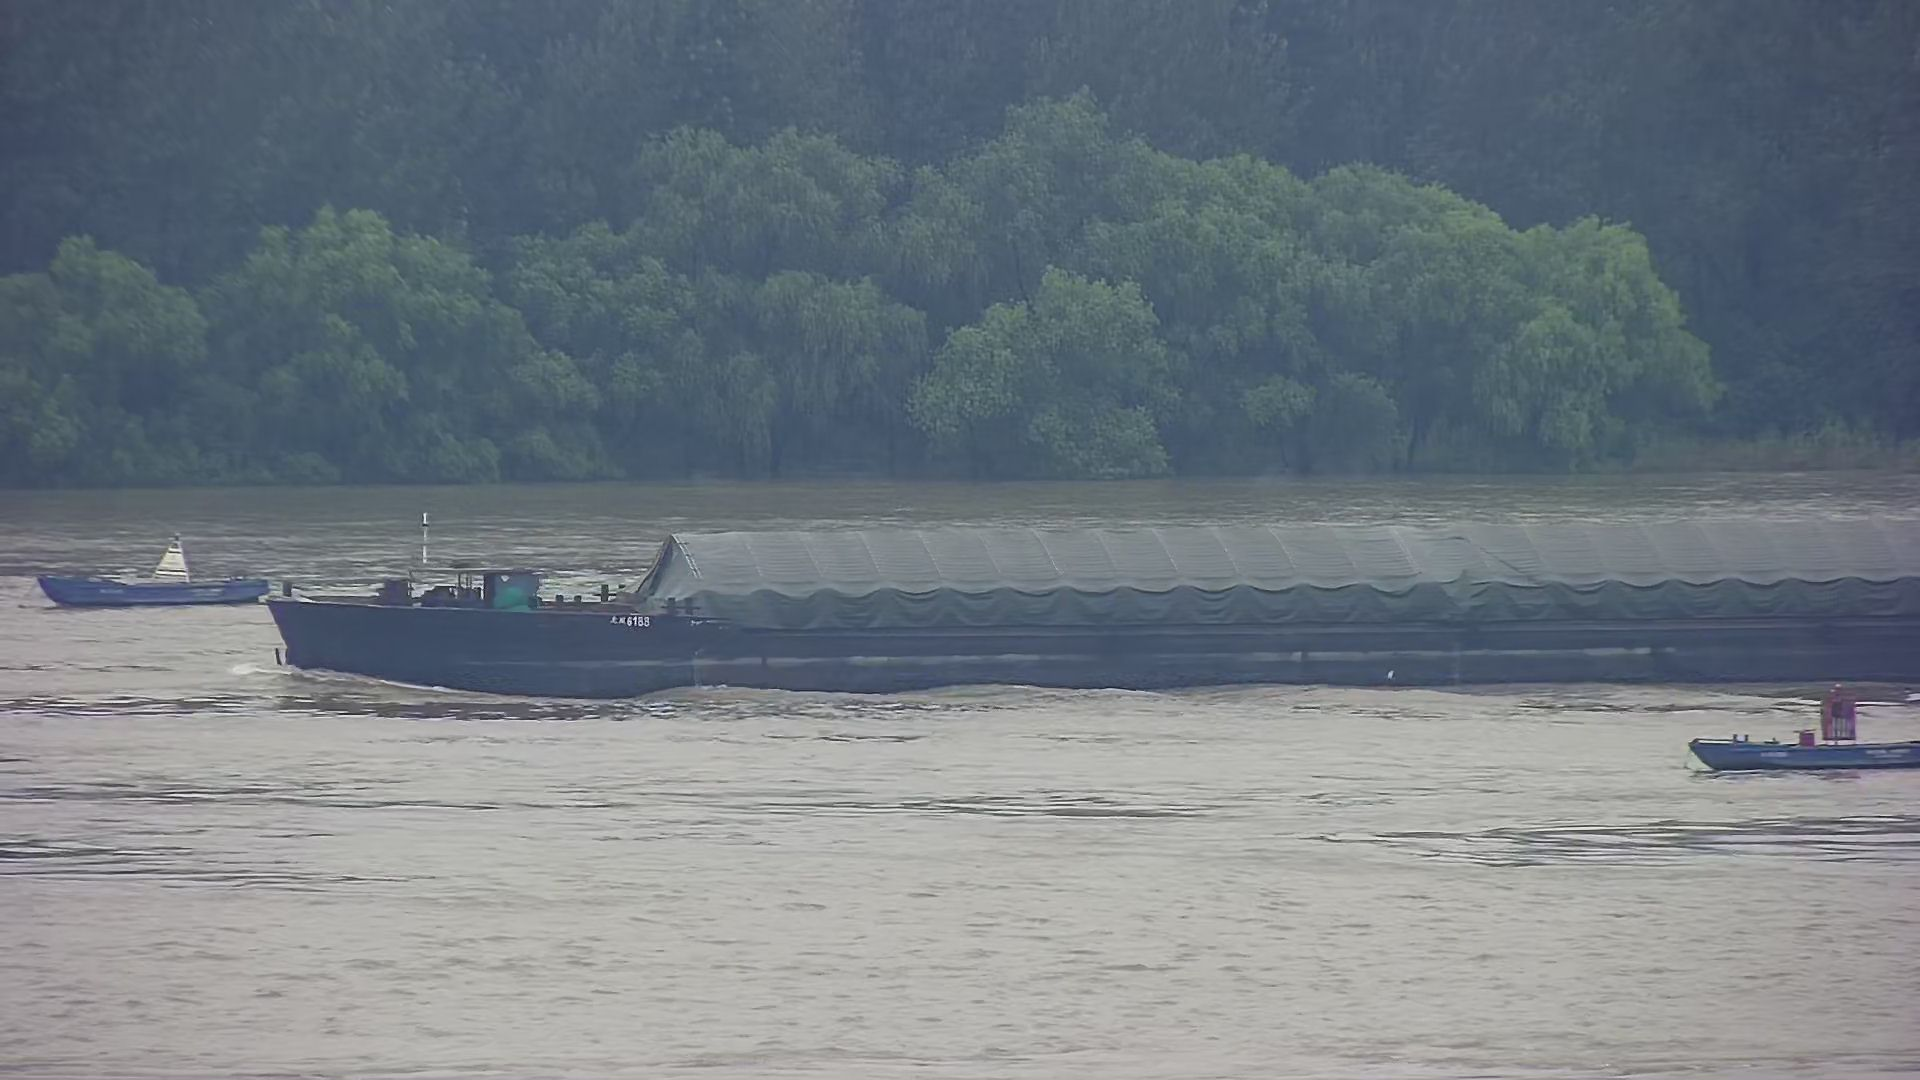boat: (1685, 691, 1920, 771), (36, 531, 272, 605)
ship: (269, 512, 1920, 699)
